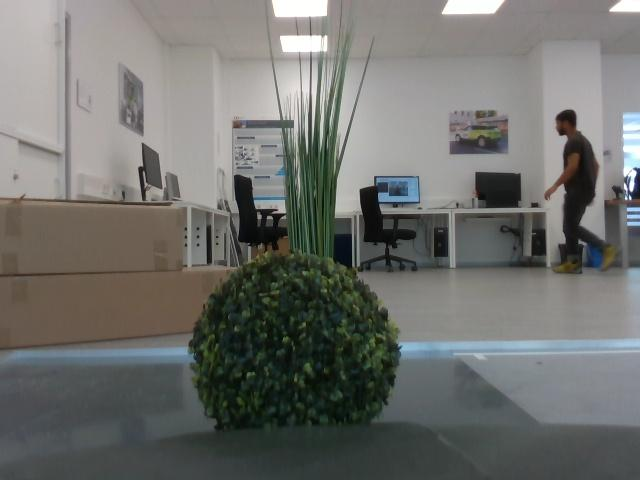potted plant: (190, 253, 398, 440), (277, 8, 366, 251)
